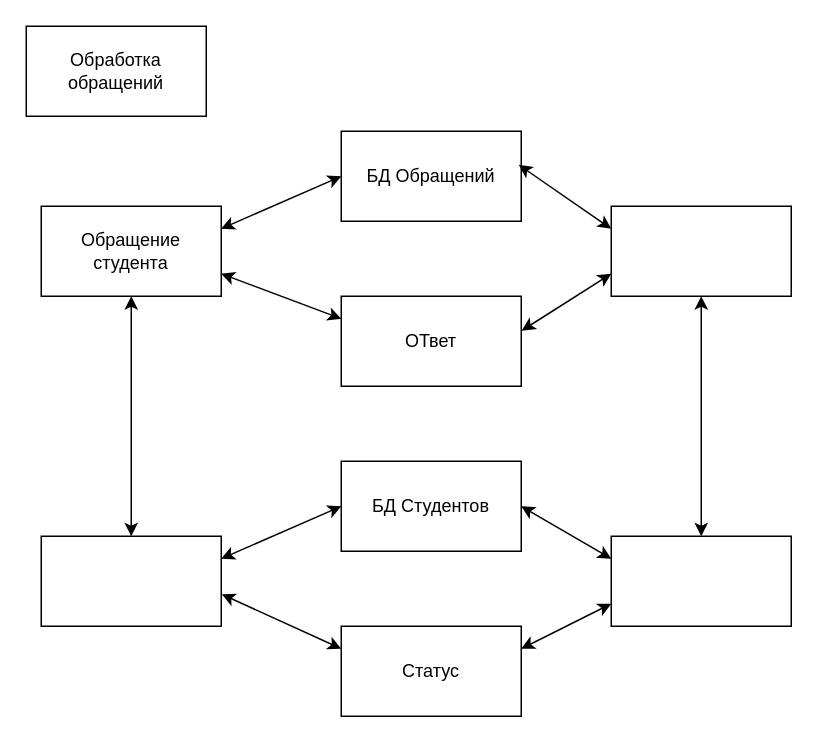
The diagram is 818 pixels wide and 743 high, and some of its shapes have lost their labels. The shapes that lost their labels are listed below. From the top down, each one's centre as x and y in pixels, then its label:
At (700,250): "Оператор 2 линии".
At (130,580): "Студент".
At (700,580): "Оператор 1 линии".
